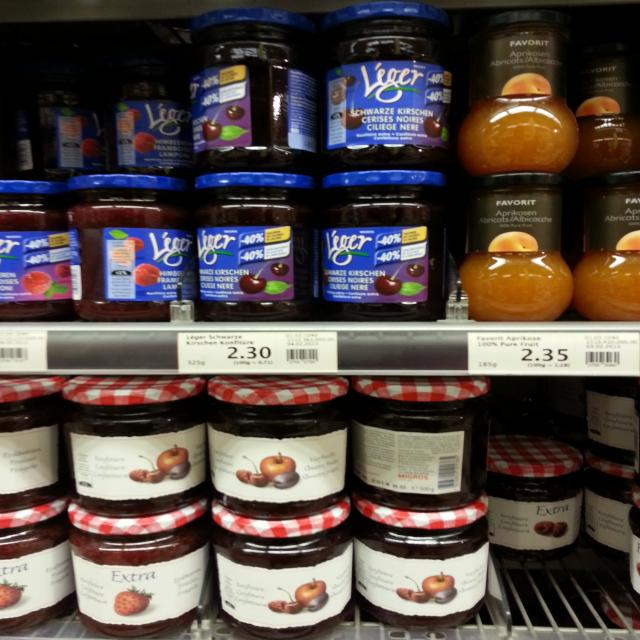Spreads: (322, 0, 458, 171), (189, 6, 323, 173), (64, 372, 209, 520), (212, 492, 354, 640), (209, 378, 350, 520), (314, 170, 447, 320), (68, 498, 209, 639), (459, 7, 580, 171), (354, 376, 490, 513), (71, 174, 196, 322), (193, 172, 314, 320), (357, 496, 490, 629), (460, 174, 574, 322), (480, 431, 586, 564), (0, 178, 71, 322), (0, 496, 73, 633), (574, 172, 640, 320), (0, 372, 64, 509)
